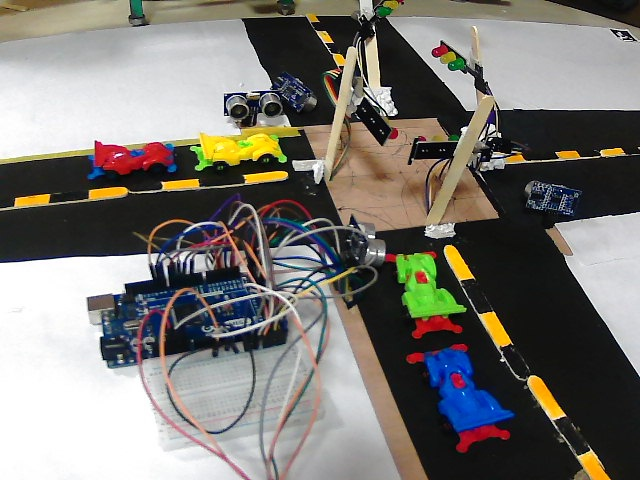aruco_marker: (608, 24, 637, 44)
black_strip: (548, 414, 591, 456), (202, 162, 244, 189), (497, 345, 528, 380), (457, 276, 488, 306), (50, 186, 89, 204), (102, 180, 135, 201), (52, 183, 84, 201), (521, 147, 552, 161), (576, 144, 598, 159), (0, 189, 16, 207), (308, 20, 324, 32), (327, 42, 342, 54), (624, 144, 632, 155)
car: (421, 351, 493, 435), (393, 253, 455, 327), (194, 132, 277, 168), (82, 146, 177, 170)
mixed_lane: (446, 243, 602, 479), (0, 159, 290, 207), (504, 140, 640, 164), (306, 12, 342, 69)
uno_breadboard: (86, 257, 286, 369), (146, 339, 330, 450), (524, 180, 590, 215), (268, 66, 316, 113), (346, 213, 384, 270), (222, 92, 282, 119)
yellow_strip: (522, 372, 564, 420), (475, 309, 508, 345), (578, 449, 607, 480), (242, 168, 288, 186), (442, 248, 470, 275), (160, 176, 206, 191), (90, 186, 130, 201), (15, 193, 52, 207), (597, 141, 622, 159), (548, 147, 580, 159), (330, 51, 348, 68), (313, 31, 335, 42), (502, 150, 521, 159), (304, 12, 318, 21), (630, 140, 640, 150)
